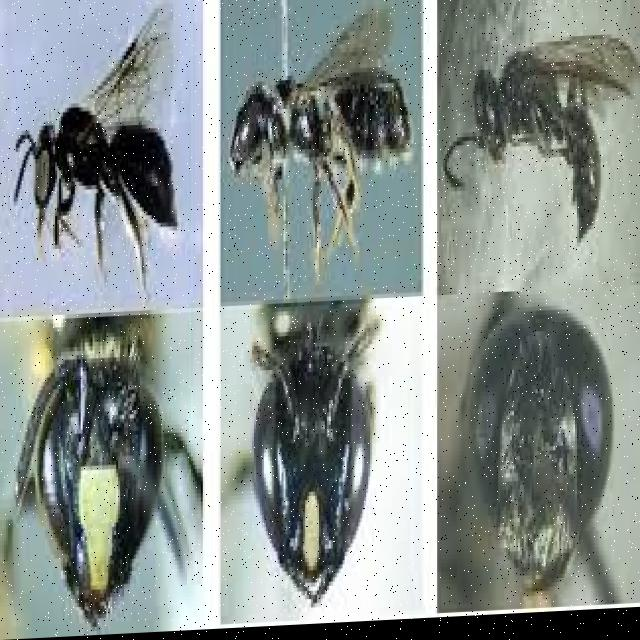Braunsapis: (13, 300, 200, 613), (8, 0, 193, 310), (457, 282, 626, 601), (243, 305, 418, 605), (439, 7, 620, 270), (216, 3, 396, 266)
